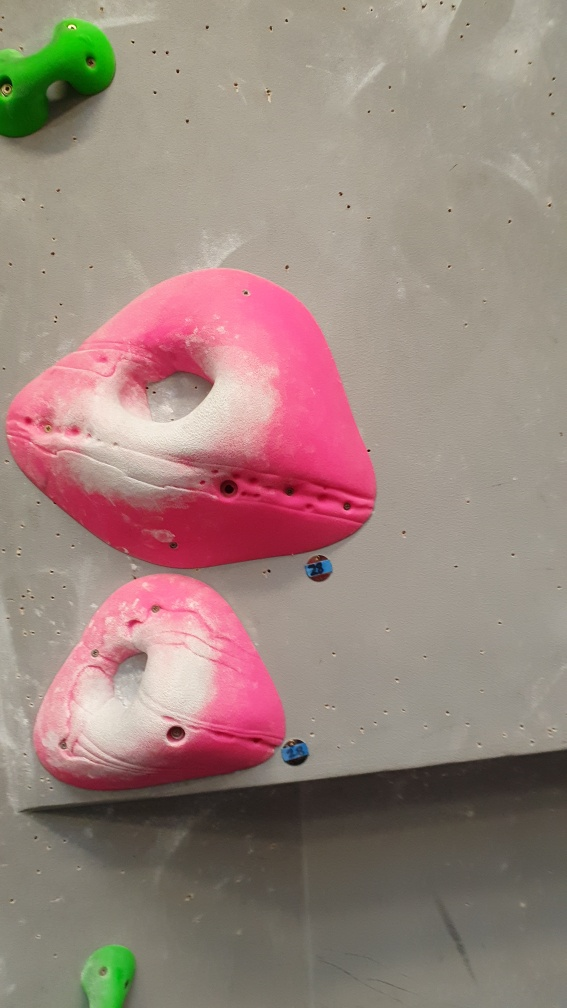Hand Start: (302, 552, 338, 593), (278, 730, 311, 772)
Pocket: (4, 266, 391, 575), (29, 574, 289, 794)
